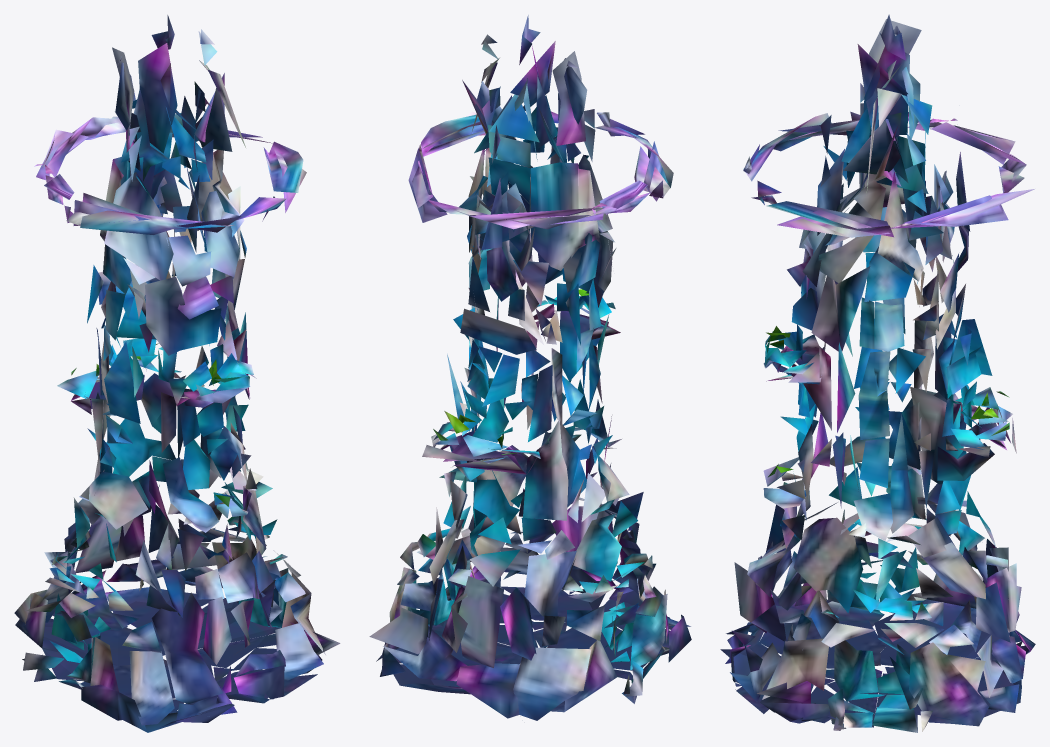
Rendered from torre-lod.glb.
3 views of the same model, side by side, from view 1: azimuth 30°, elevation 25°; view 2: azimuth 150°, elevation 25°; view 3: azimuth 270°, elevation 25° (orthographic). The views are drawn at different scales.
Visible parts, largest first — view 1: torre; view 2: torre; view 3: torre.
Boxes of the visible parts, x1,y1,x2,y2 form: torre: (14,15,340,732); torre: (369,15,691,720); torre: (720,14,1035,732).
Size of the model in its own units: 0.3988 by 0.9756 by 0.414.
1 material, 1 textured.
